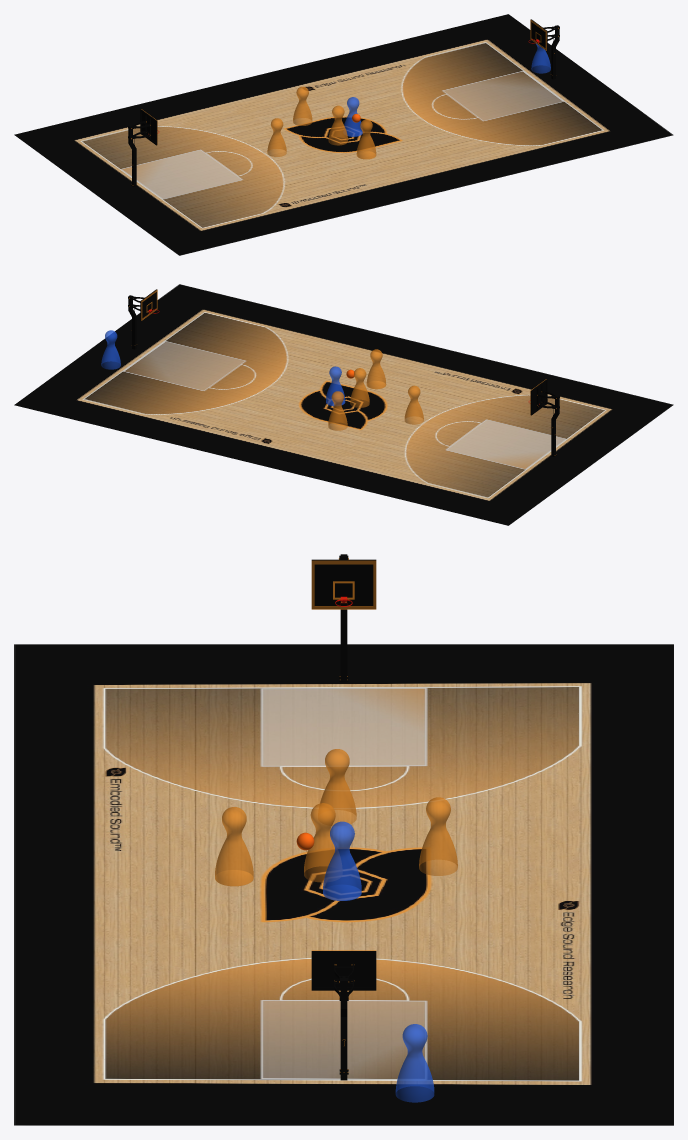
The model's file is nba-w-net.glb.
3 renders of one model, top to bottom at view 1: azimuth 30°, elevation 25°; view 2: azimuth 150°, elevation 25°; view 3: azimuth 270°, elevation 25°, orthographic. The views are drawn at different scales.
Parts seen in each view (by area): view 1: Plane.001, Torus.001, Torus.002, 5, 2, 4, 3, 6, 7; view 2: Plane.001, Torus.001, Torus.002, 5, 2, 6, 4, 7, 3; view 3: Plane.001, Torus.001, Torus.002, 5, 6, 7, 4, 2, 3.
Boxes of the visible parts, x1,y1,x2,y2 form: Plane.001: (14, 14, 673, 255); Torus.001: (128, 109, 157, 186); Torus.002: (530, 19, 559, 79); 5: (356, 119, 376, 159); 2: (328, 105, 347, 145); 4: (293, 86, 312, 125); 3: (267, 118, 286, 156); 6: (344, 97, 362, 136); 7: (531, 43, 550, 73); Plane.001: (14, 284, 673, 525); Torus.001: (530, 379, 559, 456); Torus.002: (128, 289, 157, 349); 5: (366, 349, 386, 389); 2: (350, 368, 369, 407); 6: (326, 366, 345, 406); 4: (328, 391, 347, 430); 7: (101, 330, 120, 369); 3: (404, 385, 423, 424); Plane.001: (14, 644, 673, 1125); Torus.001: (311, 554, 376, 682); Torus.002: (311, 950, 376, 1080); 5: (215, 807, 253, 886); 6: (323, 821, 361, 900); 7: (395, 1024, 434, 1102); 4: (419, 797, 457, 875); 2: (304, 803, 341, 882); 3: (318, 749, 356, 825).
Bounding box in the file's own units: 12.92 × 1.77 × 7.48.
Materials: 7 (1 with a texture image).
